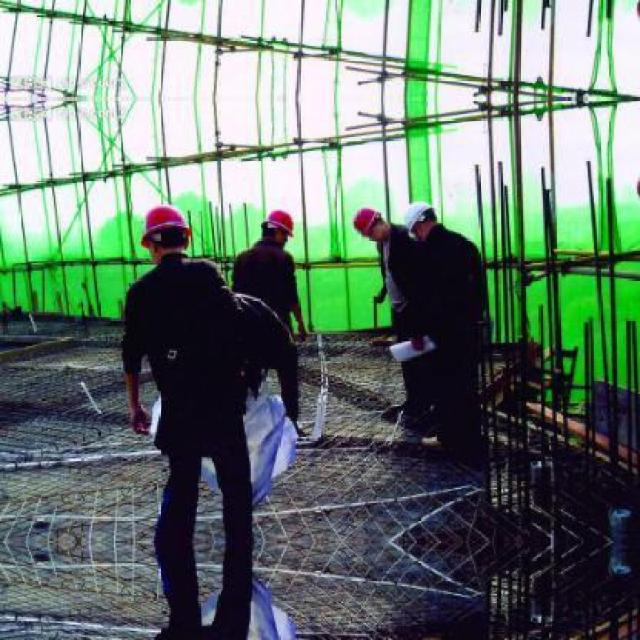helmet: (128, 197, 194, 252), (252, 206, 305, 246), (400, 197, 438, 243), (348, 206, 384, 245)
